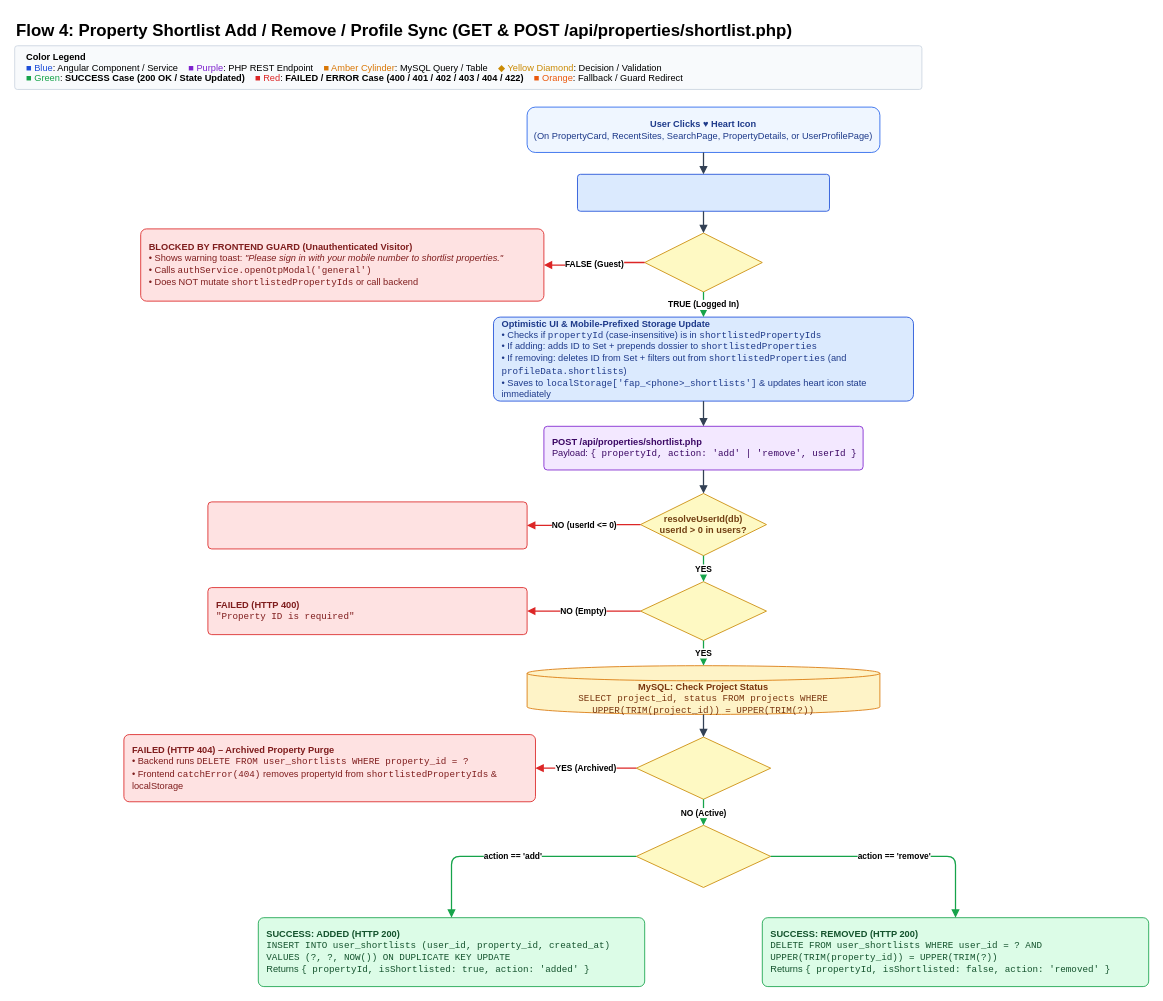
The diagram is 1163 pixels wide and 1001 high, and some of its shapes have lost their labels. The shapes that lost their labels are listed below. From the top down, each one's centre as x and y in pixels, then its label:
(x=703, y=192): PropertyService.toggleShortlist(propertyId)
(x=703, y=262): authService. isLoggedIn()?
(x=367, y=525): FAILED (HTTP 401) "Please sign in to manage your shortlisted properties."
(x=703, y=610): propertyId non-empty?
(x=703, y=767): Is project status == 'archived'?
(x=703, y=855): Action is 'add' or 'remove'?
